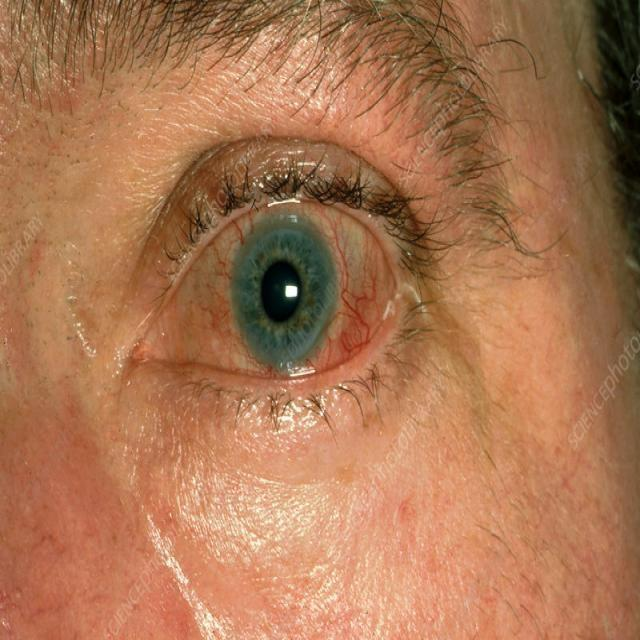Conjunctivitis: (128, 211, 398, 376)
